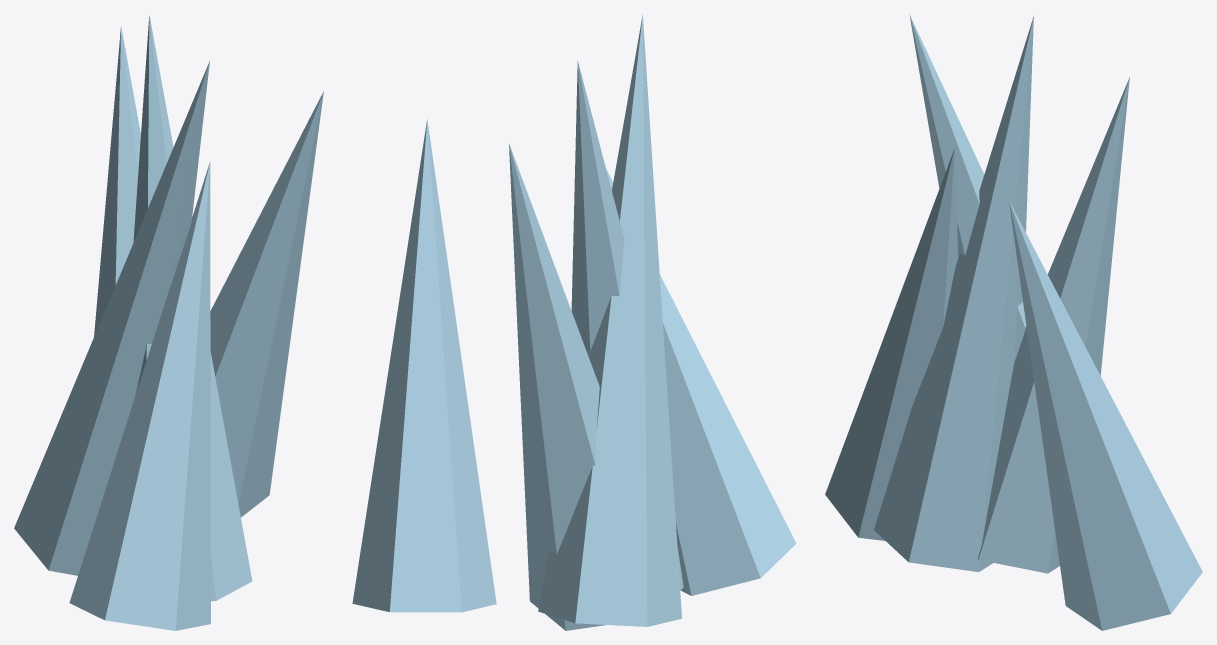
The model's file is flora_ice.glb.
3 renders of one model, left to right at view 1: azimuth 30°, elevation 25°; view 2: azimuth 150°, elevation 25°; view 3: azimuth 270°, elevation 25°, orthographic.
Visible parts, largest first — view 1: Spike3, Spike1, Spike0, Spike2, Spike4; view 2: Spike1, Spike0, Spike4, Spike3, Spike2; view 3: Spike2, Spike0, Spike4, Spike3, Spike1.
Part boxes in pixels (left/top/right/bottom): Spike3: left=69, top=161, right=210, bottom=630; Spike1: left=14, top=61, right=209, bottom=575; Spike0: left=210, top=91, right=323, bottom=517; Spike2: left=133, top=15, right=252, bottom=601; Spike4: left=94, top=26, right=140, bottom=336; Spike1: left=538, top=14, right=681, bottom=626; Spike0: left=352, top=119, right=496, bottom=612; Spike4: left=509, top=144, right=605, bottom=630; Spike3: left=606, top=168, right=796, bottom=595; Spike2: left=571, top=60, right=683, bottom=590; Spike2: left=874, top=16, right=1033, bottom=571; Spike0: left=1009, top=201, right=1202, bottom=630; Spike4: left=977, top=77, right=1129, bottom=573; Spike3: left=825, top=148, right=958, bottom=540; Spike1: left=909, top=15, right=1026, bottom=362.
Bounding box in the file's own units: 2.13 × 3.8 × 2.39.
